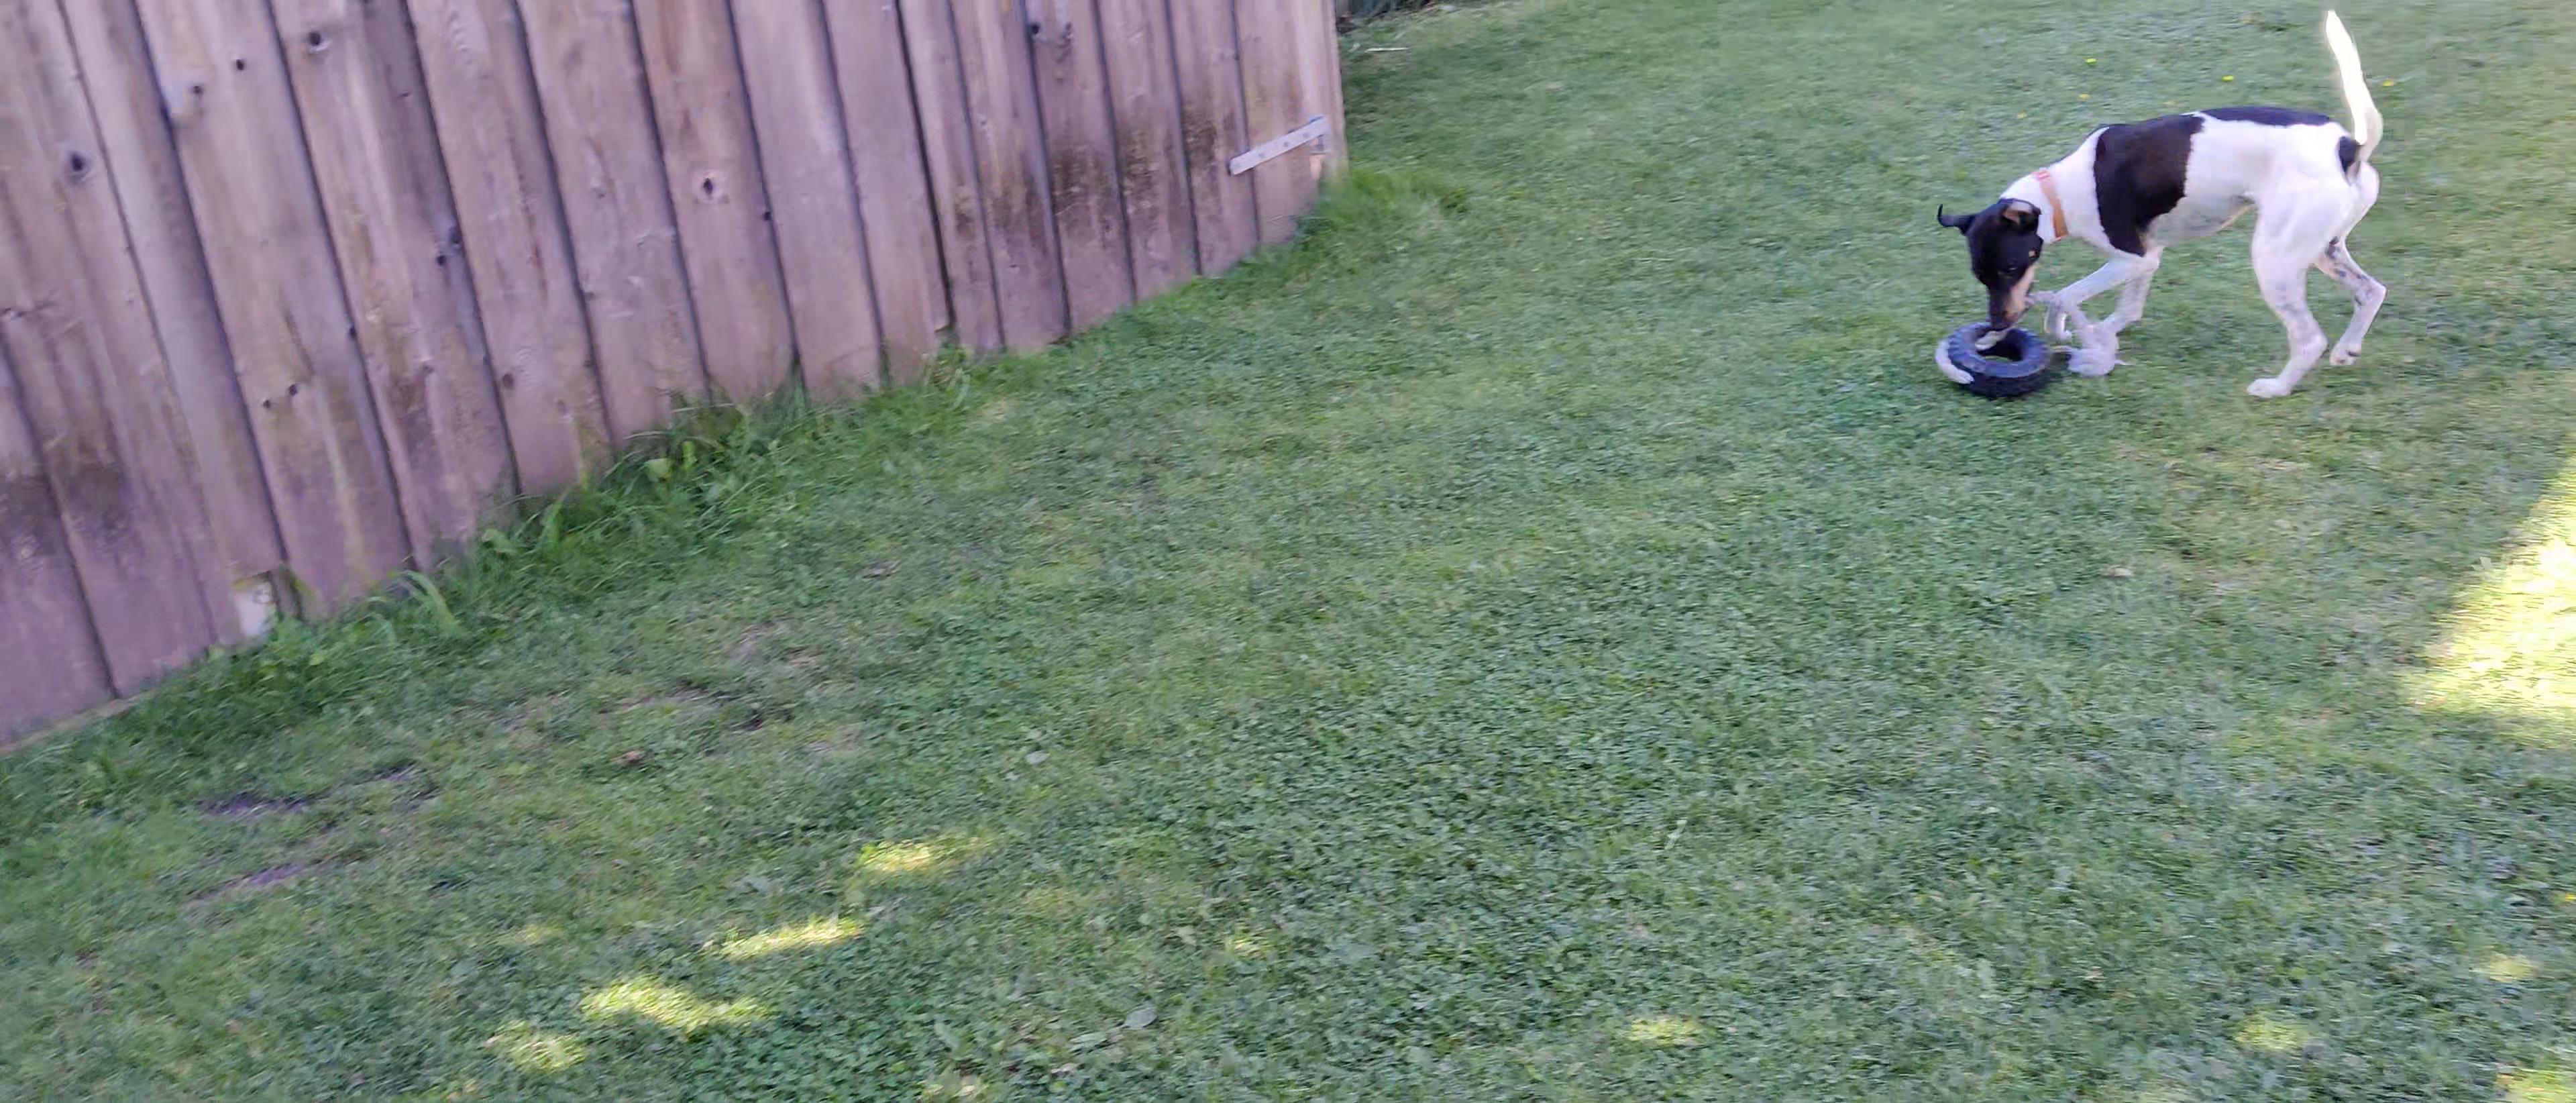Dog: (1932, 8, 2400, 408)
